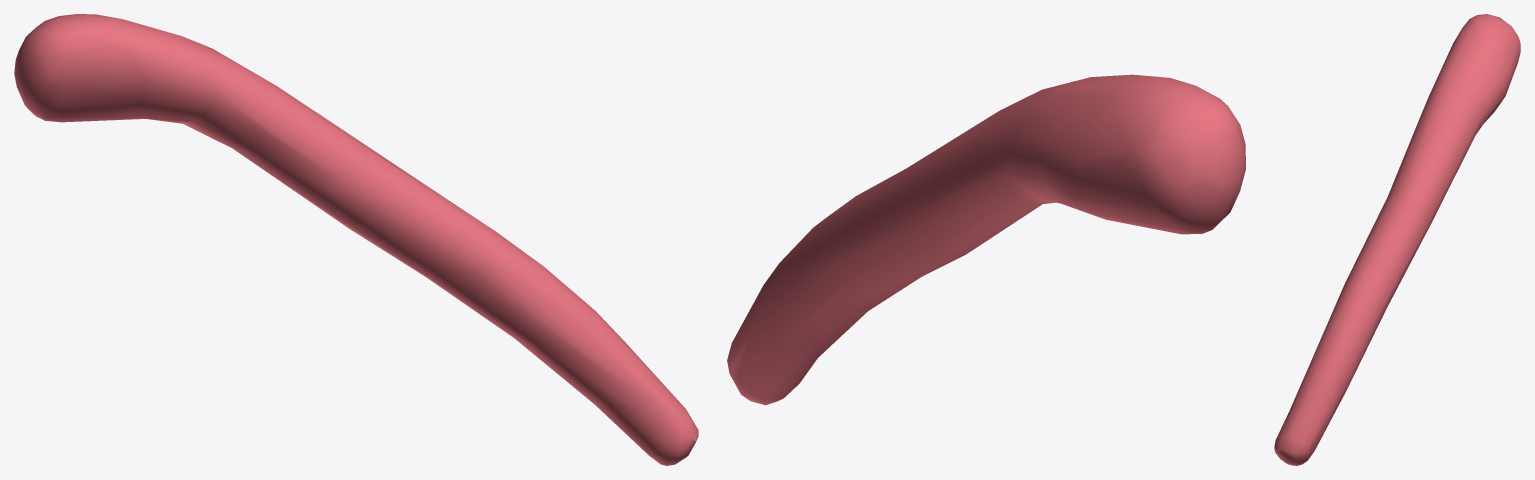
Rendered from fma50305_fj2933.glb.
3 renders of one model, left to right at view 1: azimuth 30°, elevation 25°; view 2: azimuth 150°, elevation 25°; view 3: azimuth 270°, elevation 25°, orthographic. The views are drawn at different scales.
Parts seen in each view (by area): view 1: FMA50305_FJ2933; view 2: FMA50305_FJ2933; view 3: FMA50305_FJ2933.
Part boxes in pixels (x1,y1,x2,y2): FMA50305_FJ2933: [14, 14, 698, 465]; FMA50305_FJ2933: [727, 74, 1245, 405]; FMA50305_FJ2933: [1274, 14, 1520, 465].
Bounding box in the file's own units: 0.0481 × 0.0392 × 0.0293.
